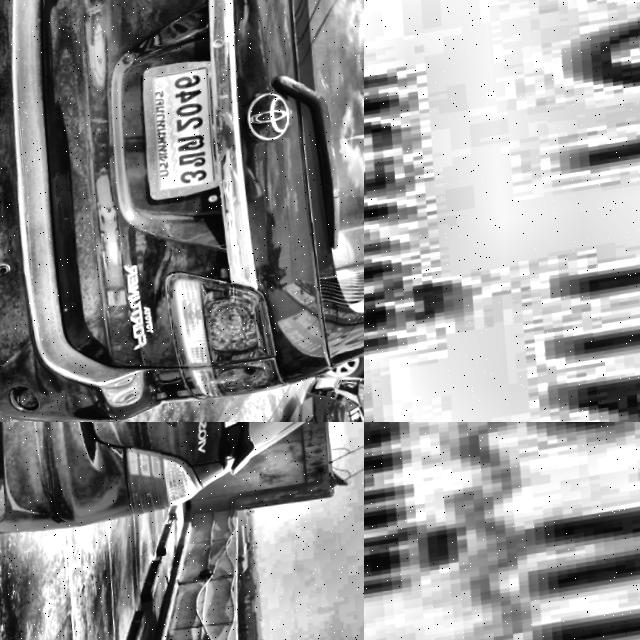license-plate: (364, 0, 640, 422), (364, 422, 640, 640), (139, 59, 231, 202)
